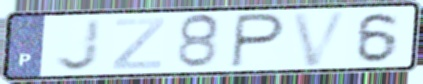6: (355, 10, 403, 64)
8: (174, 12, 224, 72)
J: (53, 17, 105, 73)
P: (227, 11, 288, 70)
V: (289, 8, 353, 69)
Z: (109, 16, 168, 71)
